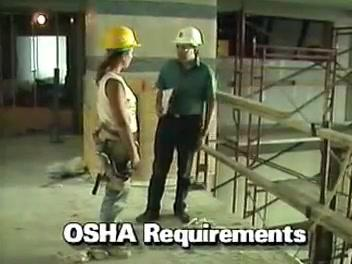no -hi-vis jacket: (93, 75, 143, 141), (163, 60, 209, 121)
